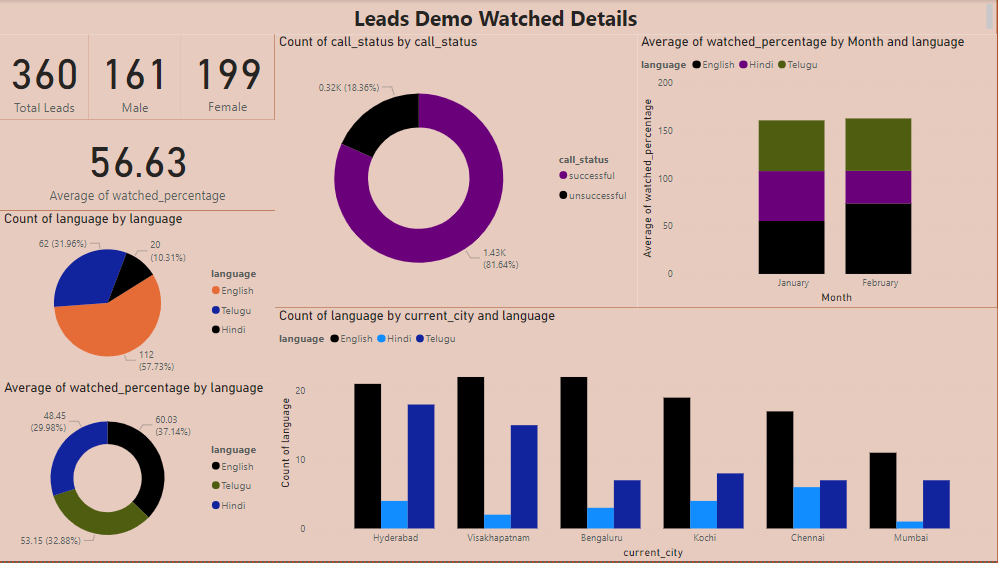

Layout of this report page (visuals, bound fields, positions):
{"tool":"powerbi","page":{"name":"Page 2","canvas":[1280,720],"ordinal":1},"visuals":[{"type":"card","fields":{"Values":["CountNonNull(leads_basic_details_cln.gender)"]},"box":[0,43.7,114.1,109.9],"z":1},{"type":"card","fields":{"Values":["CountNonNull(leads_basic_details_cln.gender)"]},"box":[232.6,44,119.7,110.1],"z":5},{"type":"card","fields":{"Values":["CountNonNull(leads_basic_details_cln.gender)"]},"box":[114.1,43.7,118.4,109.9],"z":6},{"type":"pieChart","fields":{"Category":["leads_demo_watched_details.language"],"Y":["CountNonNull(leads_demo_watched_details.language)"]},"box":[0,270.4,352.8,216.7],"z":7},{"type":"donutChart","fields":{"Category":["leads_demo_watched_details.language"],"Y":["Avg(leads_demo_watched_details.watched_percentage)"]},"box":[0,487.1,352.8,233.5],"z":8},{"type":"card","fields":{"Values":["Avg(leads_demo_watched_details.watched_percentage)"]},"box":[0,154,352.9,115.5],"z":9},{"type":"textbox","box":[0,0,1279.4,43.7],"z":10},{"type":"clusteredColumnChart","fields":{"Category":["leads_basic_details_cln.current_city"],"Series":["leads_demo_watched_details.language"],"Y":["CountNonNull(leads_demo_watched_details.language)"]},"box":[352.8,394.8,927.2,325.9],"z":11},{"type":"columnChart","fields":{"Series":["leads_demo_watched_details.language"],"Y":["Avg(leads_demo_watched_details.watched_percentage)"],"Category":["leads_demo_watched_details.demo_watched_date.Variation.Date Hierarchy.Month"]},"box":[817.5,44,462.5,351],"z":12},{"type":"donutChart","fields":{"Category":["leads_interaction_details_cln.call_status"],"Y":["CountNonNull(leads_interaction_details_cln.call_status)"]},"box":[352.3,44,465.2,351],"z":13}]}

Visuals, with their boxes in screenshot pixels (x1, y1, x2, y2), scaled from the page's 1280x720 canvas onto the 998x563 screenshot:
card - CountNonNull(leads_basic_details_cln.gender): [0, 34, 89, 120]
card - CountNonNull(leads_basic_details_cln.gender): [181, 34, 275, 120]
card - CountNonNull(leads_basic_details_cln.gender): [89, 34, 181, 120]
pieChart - leads_demo_watched_details.language x CountNonNull(leads_demo_watched_details.language): [0, 211, 275, 381]
donutChart - leads_demo_watched_details.language x Avg(leads_demo_watched_details.watched_percentage): [0, 381, 275, 562]
card - Avg(leads_demo_watched_details.watched_percentage): [0, 120, 275, 211]
textbox: [0, 0, 997, 34]
clusteredColumnChart - leads_basic_details_cln.current_city x leads_demo_watched_details.language: [275, 309, 997, 562]
columnChart - leads_demo_watched_details.language x Avg(leads_demo_watched_details.watched_percentage): [637, 34, 997, 309]
donutChart - leads_interaction_details_cln.call_status x CountNonNull(leads_interaction_details_cln.call_status): [275, 34, 637, 309]
